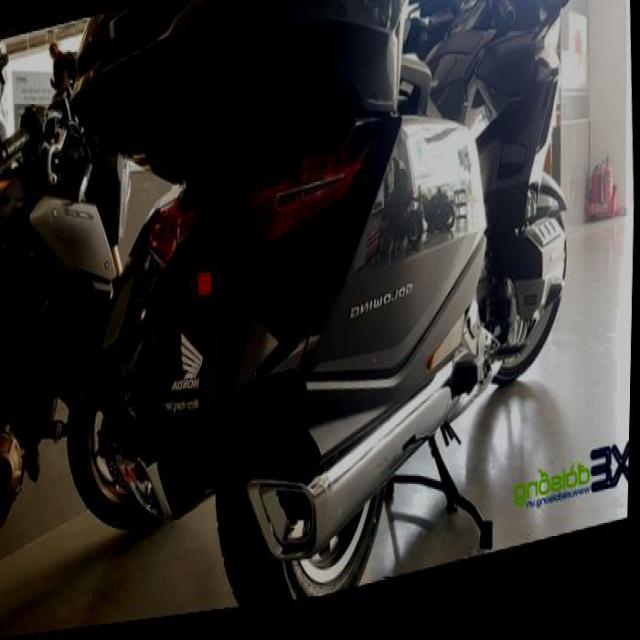Gold Wing: (58, 0, 588, 632)
